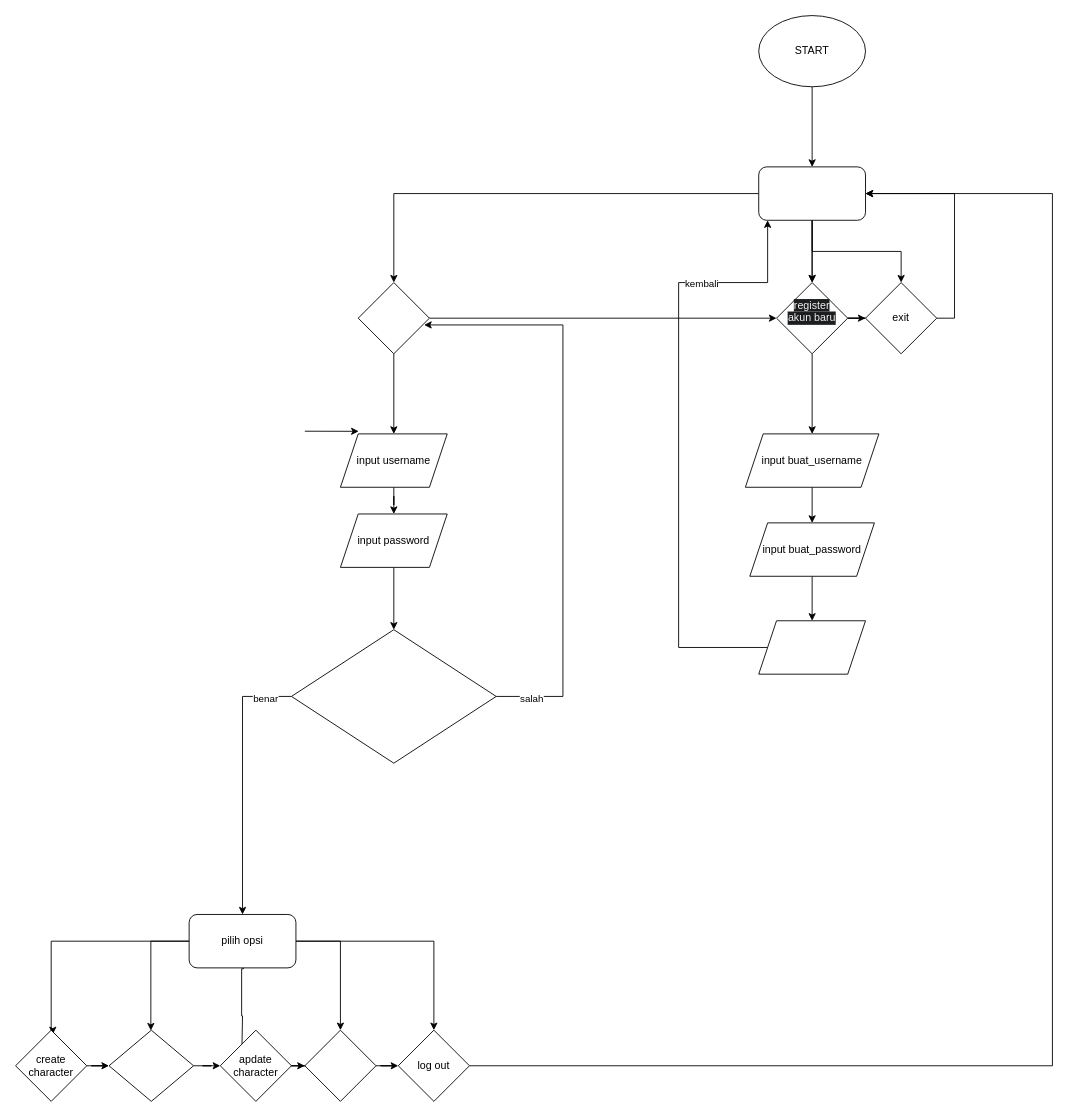
The diagram is 1075 pixels wide and 1117 high, and some of its shapes have lost their labels. The centre of each missing label's shape, as x and y in pixels:
"deleted character" belongs at (151,1065).
"input role (admin/reguler)" belongs at (812,647).
"login" belongs at (393,318).
"pilih option" belongs at (812,193).
"read character" belongs at (340,1065).
"username = buat_ username & password = buat_password" belongs at (393,696).
